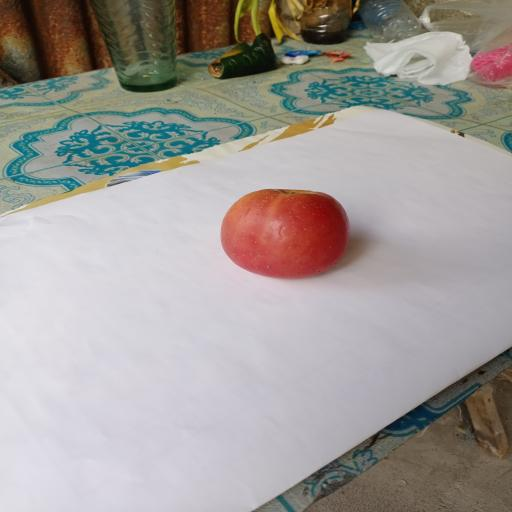apple-ripe: (212, 182, 354, 280)
